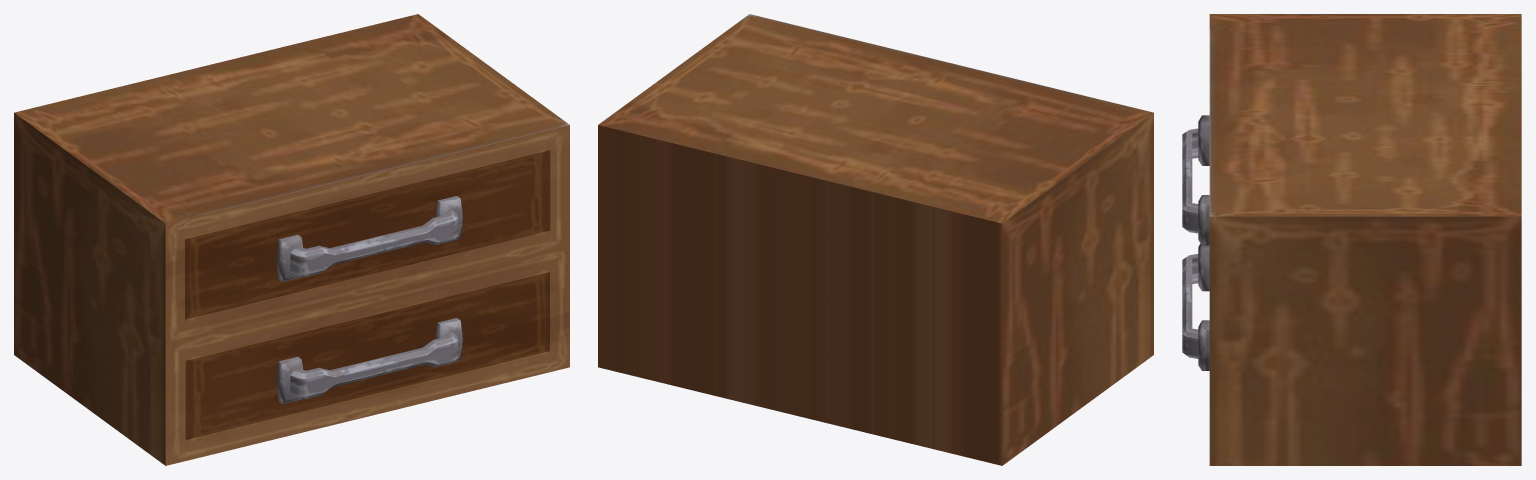
Rendered from workbench_drawers.glb.
3 renders of one model, left to right at view 1: azimuth 30°, elevation 25°; view 2: azimuth 150°, elevation 25°; view 3: azimuth 270°, elevation 25°, orthographic. The views are drawn at different scales.
Visible parts, largest first — view 1: Workbench_Drawers; view 2: Workbench_Drawers; view 3: Workbench_Drawers.
Part boxes in pixels (x1=…): Workbench_Drawers: x1=14, y1=14, x2=569, y2=465; Workbench_Drawers: x1=598, y1=14, x2=1153, y2=465; Workbench_Drawers: x1=1182, y1=14, x2=1521, y2=465.
Bounding box in the file's own units: 0.4231 × 0.2424 × 0.299.
2 materials, 2 textured.
